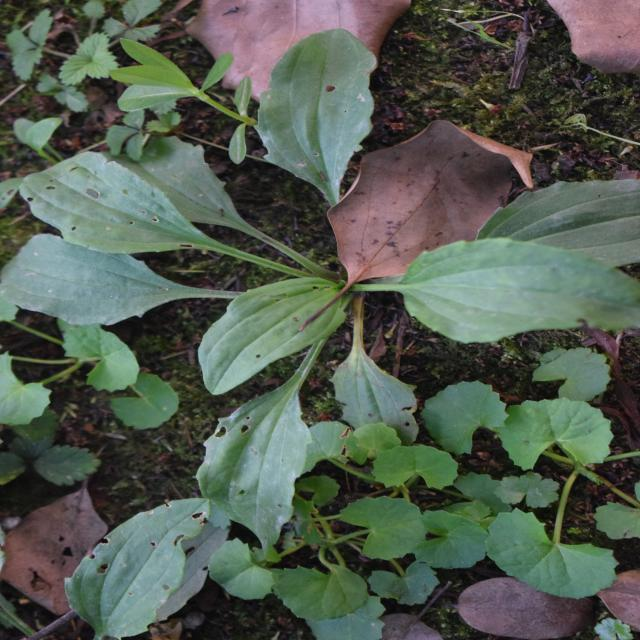plantain: (165, 33, 569, 611)
